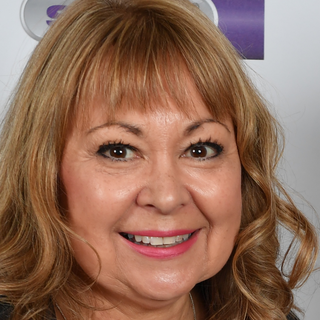eye: (175, 135, 229, 167), (90, 136, 149, 165)
